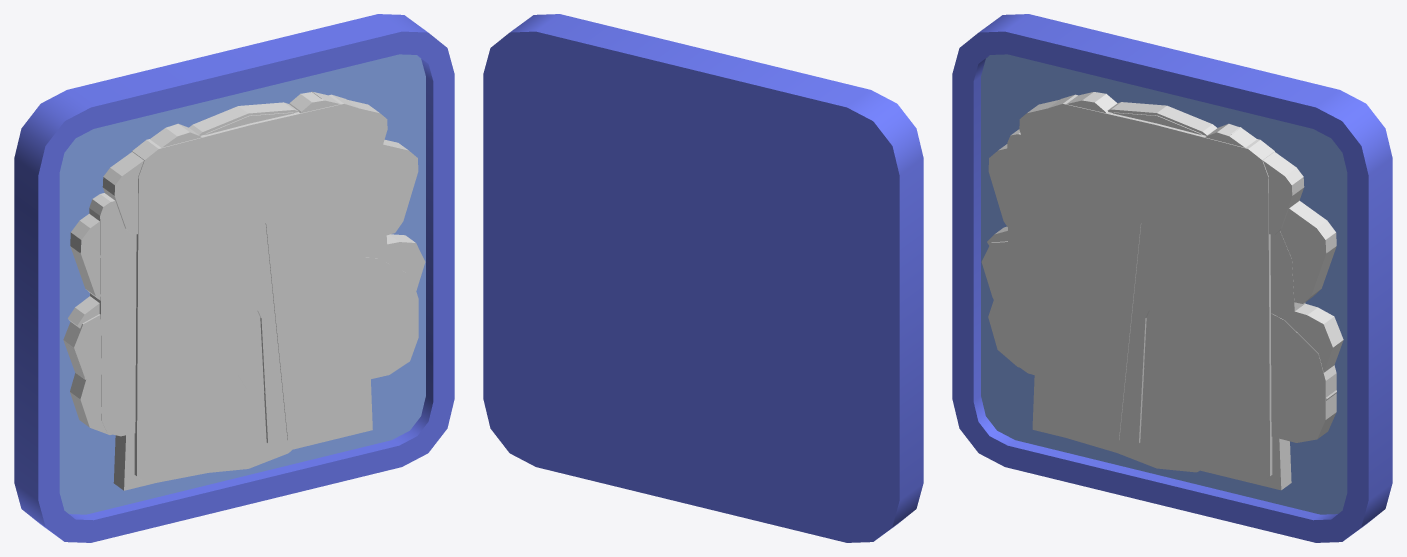
The model's file is ICONS.fbx.
3 views of the same model, side by side, from view 1: azimuth 30°, elevation 25°; view 2: azimuth 150°, elevation 25°; view 3: azimuth 330°, elevation 25° (orthographic).
Visible parts, largest first — view 1: ShirtBase, Pants, Shoes, FullBody, Body, Shirt, hair, Hat, Aura; view 2: ShirtBase; view 3: ShirtBase, Pants, Shoes, FullBody, Body, Shirt, hair, Hat.
Boxes of the visible parts, x1,y1,x2,y2 form: ShirtBase: (14, 14, 454, 542); Pants: (132, 94, 366, 482); Shoes: (89, 193, 418, 436); FullBody: (102, 92, 387, 461); Body: (63, 112, 425, 471); Shirt: (70, 140, 418, 300); hair: (64, 102, 372, 490); Hat: (70, 373, 111, 434); Aura: (68, 91, 321, 328); ShirtBase: (483, 14, 923, 542); ShirtBase: (952, 14, 1392, 542); Pants: (1040, 94, 1274, 482); Shoes: (1007, 129, 1336, 442); FullBody: (1019, 92, 1304, 461); Body: (981, 112, 1343, 471); Shirt: (988, 144, 1336, 303); hair: (1032, 102, 1291, 490); Hat: (988, 300, 1336, 400).
Size of the model in its own units: 100 by 100 by 12.11.
